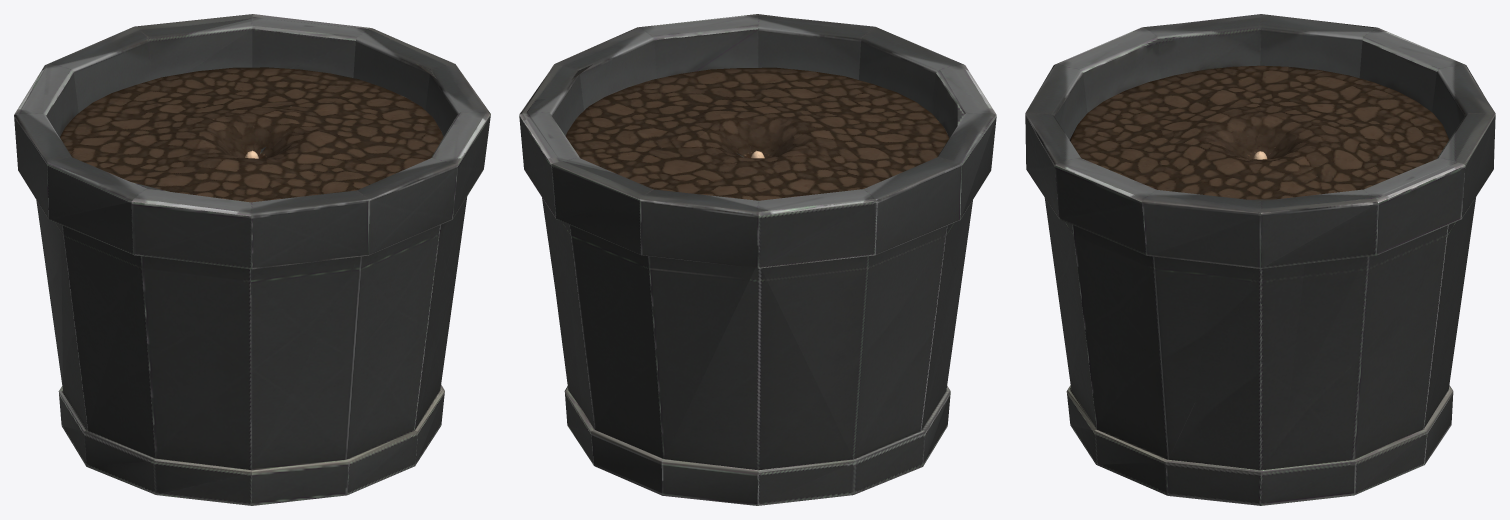
The model's file is planted-seed.glb.
3 renders of one model, left to right at view 1: azimuth 30°, elevation 25°; view 2: azimuth 150°, elevation 25°; view 3: azimuth 270°, elevation 25°, orthographic.
Bounding box in the file's own units: 1 × 0.7344 × 1.
Materials: 1 (1 with a texture image).
